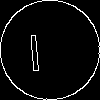I: (25, 25, 43, 72)
